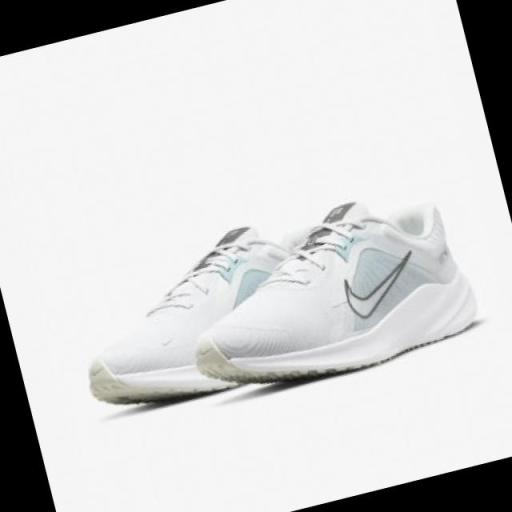Nike: (332, 246, 427, 328)
